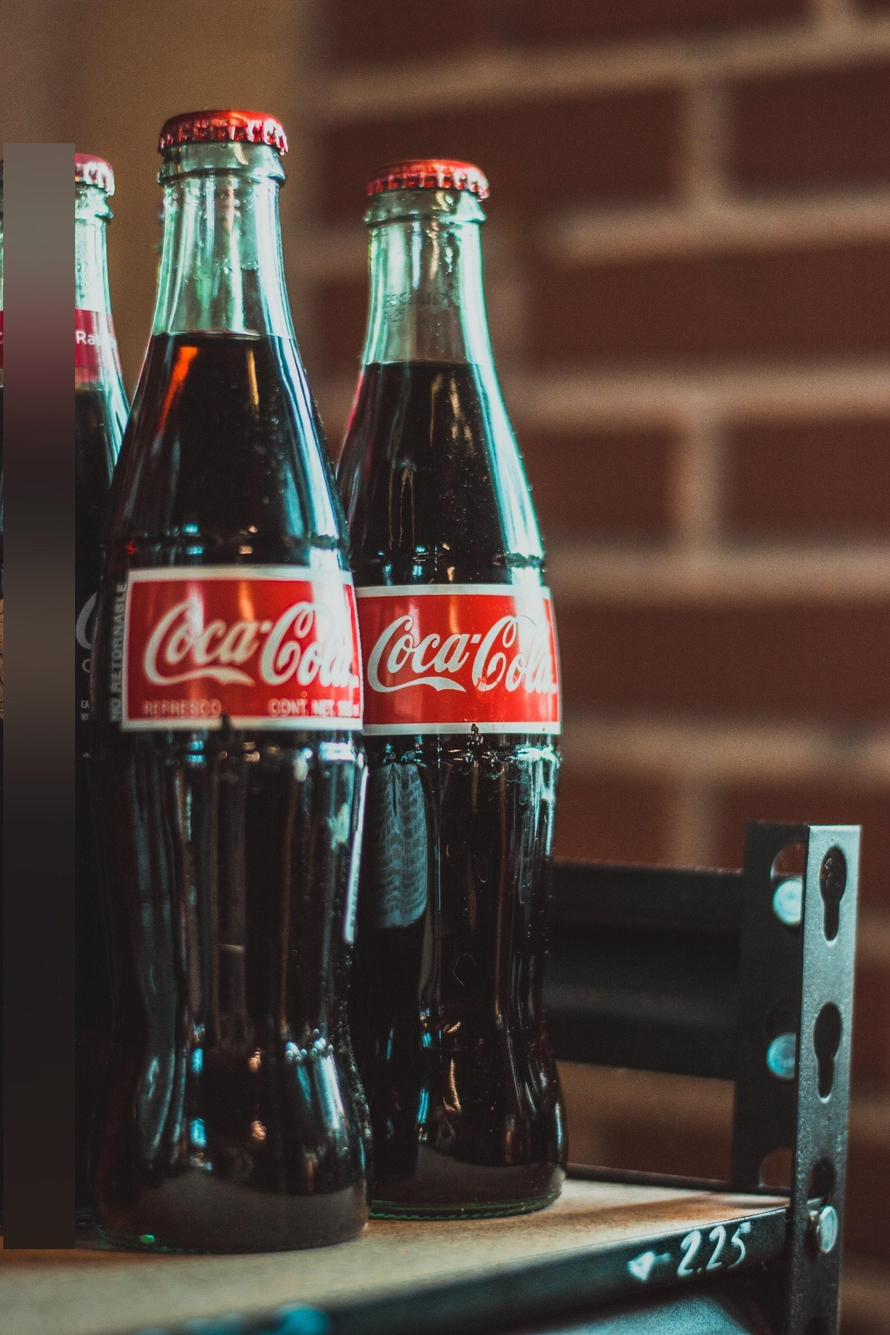bottle-glass: (79, 101, 387, 1270), (309, 143, 581, 1230)
